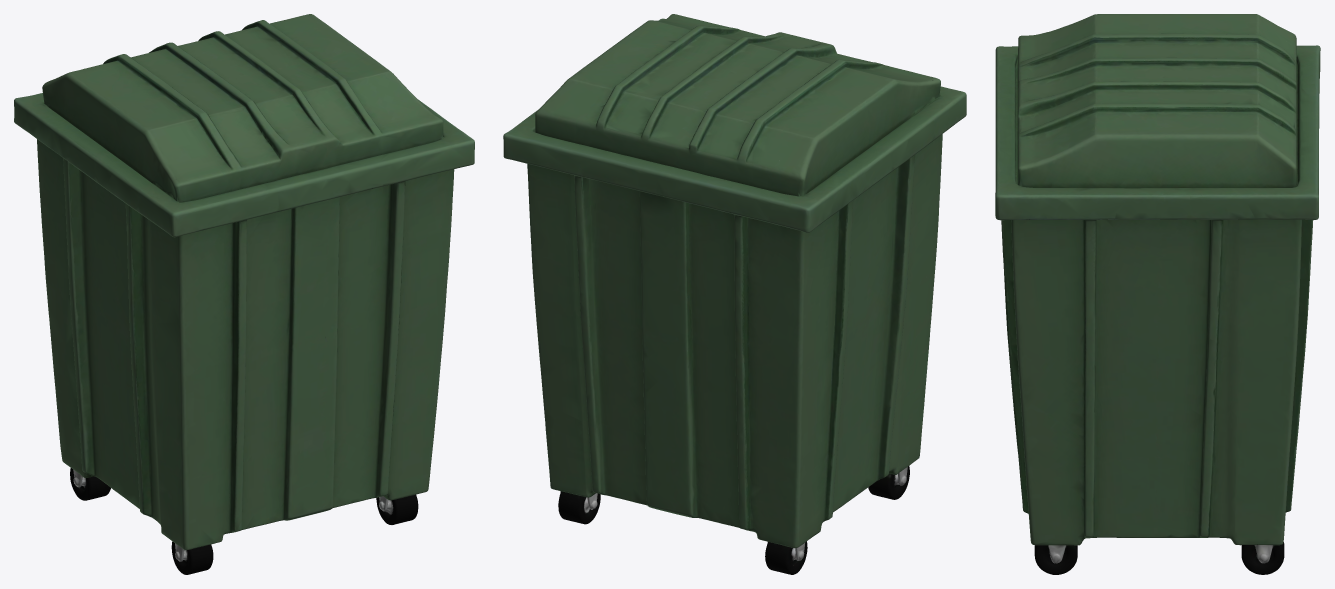
File: dumpster.glb
The picture shows the model from 3 angles, left to right: view 1: azimuth 30°, elevation 25°; view 2: azimuth 150°, elevation 25°; view 3: azimuth 270°, elevation 25°; orthographic projection. The views are drawn at different scales.
Visible parts, largest first — view 1: geometry_0; view 2: geometry_0; view 3: geometry_0.
Part boxes in pixels (x1,y1,x2,y2): geometry_0: (14,14,474,574); geometry_0: (503,14,966,574); geometry_0: (995,14,1320,574).
Bounding box in the file's own units: 1.16 × 1.6 × 1.05.
Materials: 1 (1 with a texture image).
